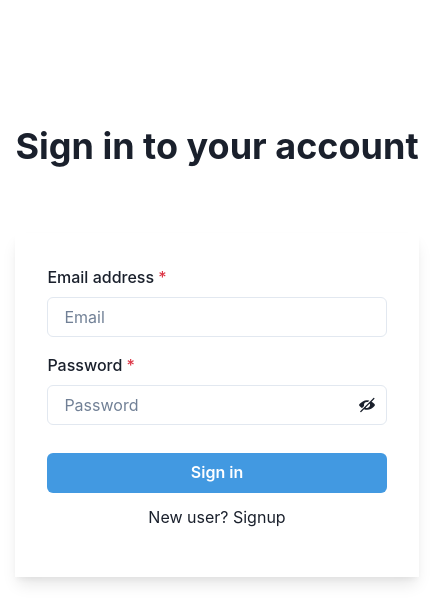
it: login › if invalid Credential
Type "dravid123@gmail.com" into the field with id "email".
click(217, 317); type("dravid123@gmail.com")  # box [47, 297, 386, 337]
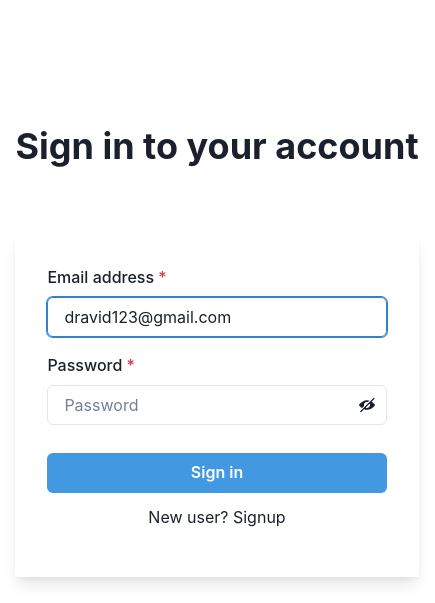
Type "Dravid@123" into the password field labelled "Password *".
click(217, 405); type("Dravid@123")  # box [47, 385, 386, 425]
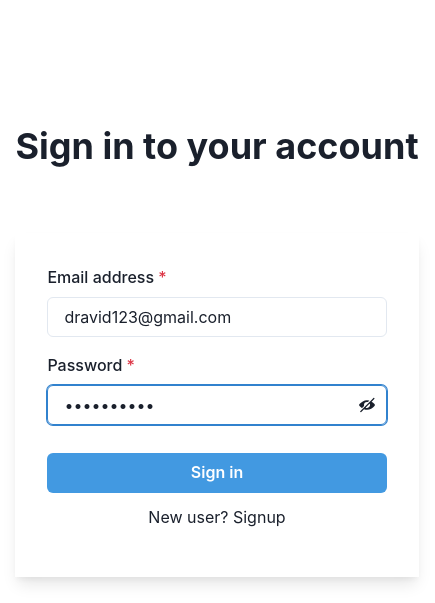
Click the button with id "submit".
click(217, 473)  # box [47, 453, 386, 493]
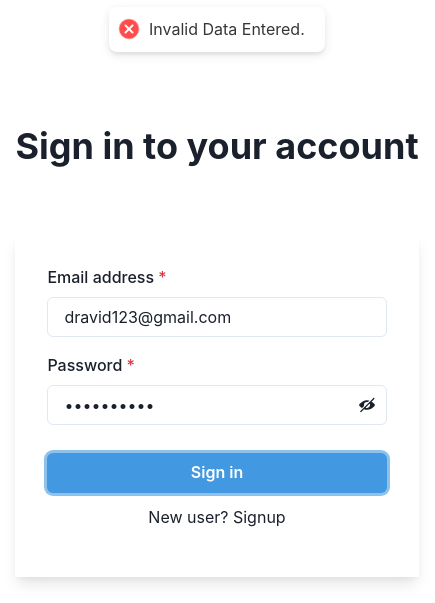
Expected: the text "Invalid Data Entered." is shown, [149, 19, 305, 40]
